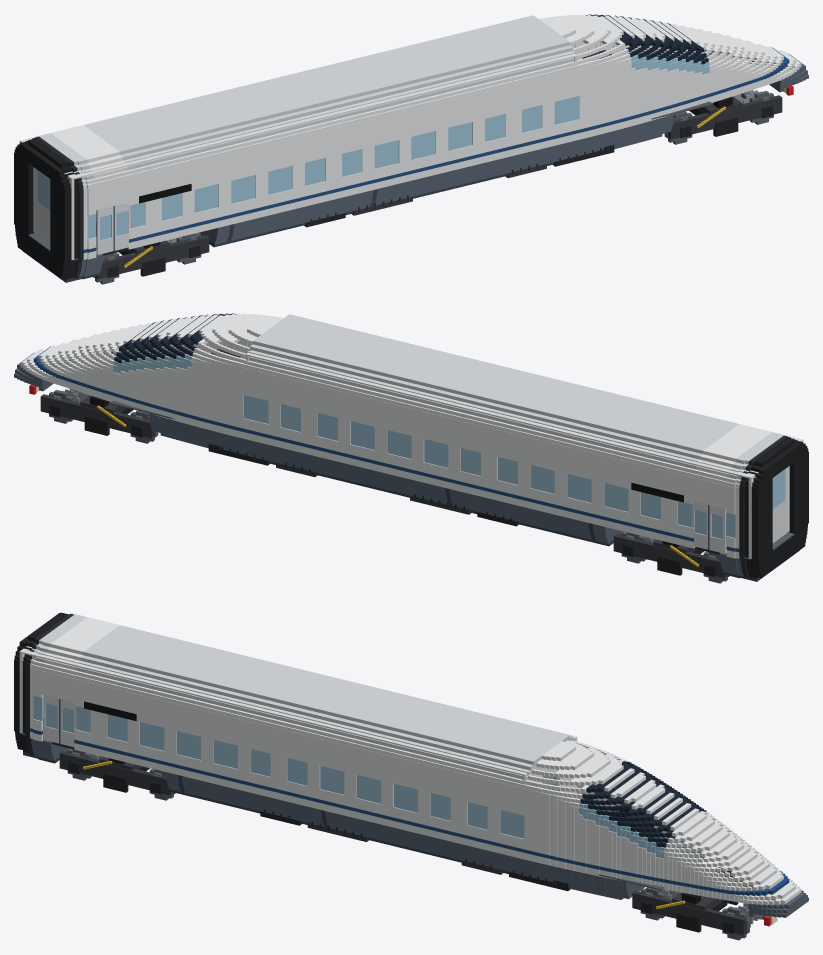
File: ktx_sancheon_front.obj
3 renders of one model, top to bottom at view 1: azimuth 30°, elevation 25°; view 2: azimuth 150°, elevation 25°; view 3: azimuth 330°, elevation 25°, orthographic.
Visible parts, largest first — view 1: SHELL, SHELL_diaphragm, SHELL_ceiling, BOGEY_FRONT, BOGEY_REAR, FRAME, CONNECTING_DOOR_1_CG_CR_TOGGLE_TL_0.98_Z, EXTERNAL_DOOR_3_CG_DR1_TOGGLE_TL_-0.44_X, EXTERNAL_DOOR_4_CG_DR1_TOGGLE_TL_0.44_X, SHELL_end; view 2: SHELL, SHELL_diaphragm, SHELL_ceiling, BOGEY_FRONT, BOGEY_REAR, FRAME, CONNECTING_DOOR_1_CG_CR_TOGGLE_TL_0.98_Z, EXTERNAL_DOOR_6_CG_DL1_TOGGLE_TL_-0.44_X, EXTERNAL_DOOR_7_CG_DL1_TOGGLE_TL_0.44_X, SHELL_end; view 3: SHELL, SHELL_ceiling, BOGEY_FRONT, BOGEY_REAR, FRAME, EXTERNAL_DOOR_3_CG_DR1_TOGGLE_TL_-0.44_X, EXTERNAL_DOOR_4_CG_DR1_TOGGLE_TL_0.44_X, SHELL_diaphragm.
Part boxes in pixels (<box>): SHELL: <box>23,14,808,282</box>; SHELL_diaphragm: <box>14,142,69,278</box>; SHELL_ceiling: <box>22,18,574,179</box>; BOGEY_FRONT: <box>668,92,782,139</box>; BOGEY_REAR: <box>95,235,209,279</box>; FRAME: <box>103,144,614,255</box>; CONNECTING_DOOR_1_CG_CR_TOGGLE_TL_0.98_Z: <box>36,169,50,244</box>; EXTERNAL_DOOR_3_CG_DR1_TOGGLE_TL_-0.44_X: <box>96,206,114,254</box>; EXTERNAL_DOOR_4_CG_DR1_TOGGLE_TL_0.44_X: <box>114,202,130,250</box>; SHELL_end: <box>19,140,74,259</box>; SHELL: <box>14,313,799,581</box>; SHELL_diaphragm: <box>753,441,808,577</box>; SHELL_ceiling: <box>248,317,800,478</box>; BOGEY_FRONT: <box>40,391,154,438</box>; BOGEY_REAR: <box>613,534,727,578</box>; FRAME: <box>208,443,719,554</box>; CONNECTING_DOOR_1_CG_CR_TOGGLE_TL_0.98_Z: <box>772,468,786,543</box>; EXTERNAL_DOOR_6_CG_DL1_TOGGLE_TL_-0.44_X: <box>708,505,726,553</box>; EXTERNAL_DOOR_7_CG_DL1_TOGGLE_TL_0.44_X: <box>692,501,708,549</box>; SHELL_end: <box>748,439,803,558</box>; SHELL: <box>18,612,808,917</box>; SHELL_ceiling: <box>22,614,573,775</box>; BOGEY_FRONT: <box>632,867,752,935</box>; BOGEY_REAR: <box>59,751,173,795</box>; FRAME: <box>52,742,570,891</box>; EXTERNAL_DOOR_3_CG_DR1_TOGGLE_TL_-0.44_X: <box>43,695,60,743</box>; EXTERNAL_DOOR_4_CG_DR1_TOGGLE_TL_0.44_X: <box>60,699,76,747</box>; SHELL_diaphragm: <box>14,613,59,749</box>.
Bounding box in the file's own units: 23.16 × 3.85 × 2.92.
1 material, 1 textured.
